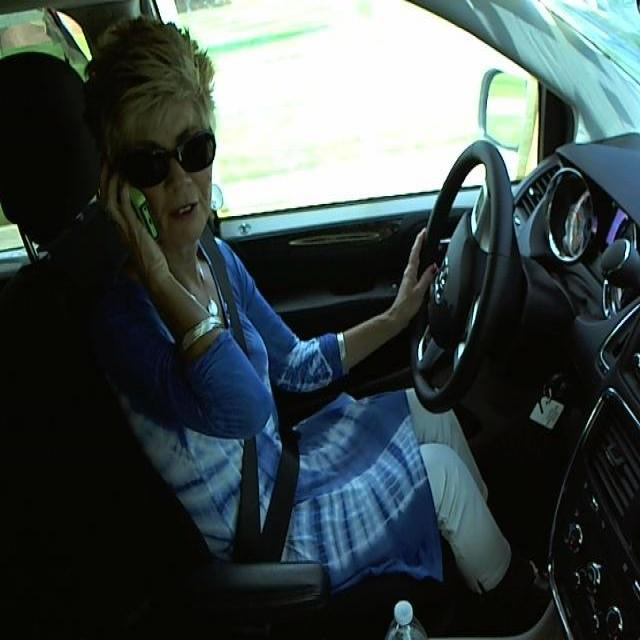using_phone: (62, 39, 253, 267)
